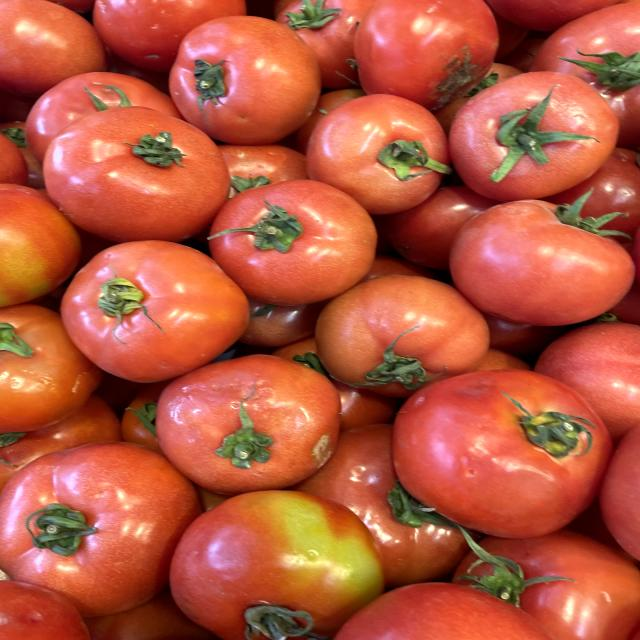tomato: (390, 359, 626, 539), (0, 439, 212, 618), (134, 339, 370, 499), (45, 225, 255, 378), (440, 182, 640, 329), (39, 105, 249, 238), (280, 68, 455, 214), (191, 174, 388, 302), (448, 53, 623, 196), (157, 17, 320, 144)
